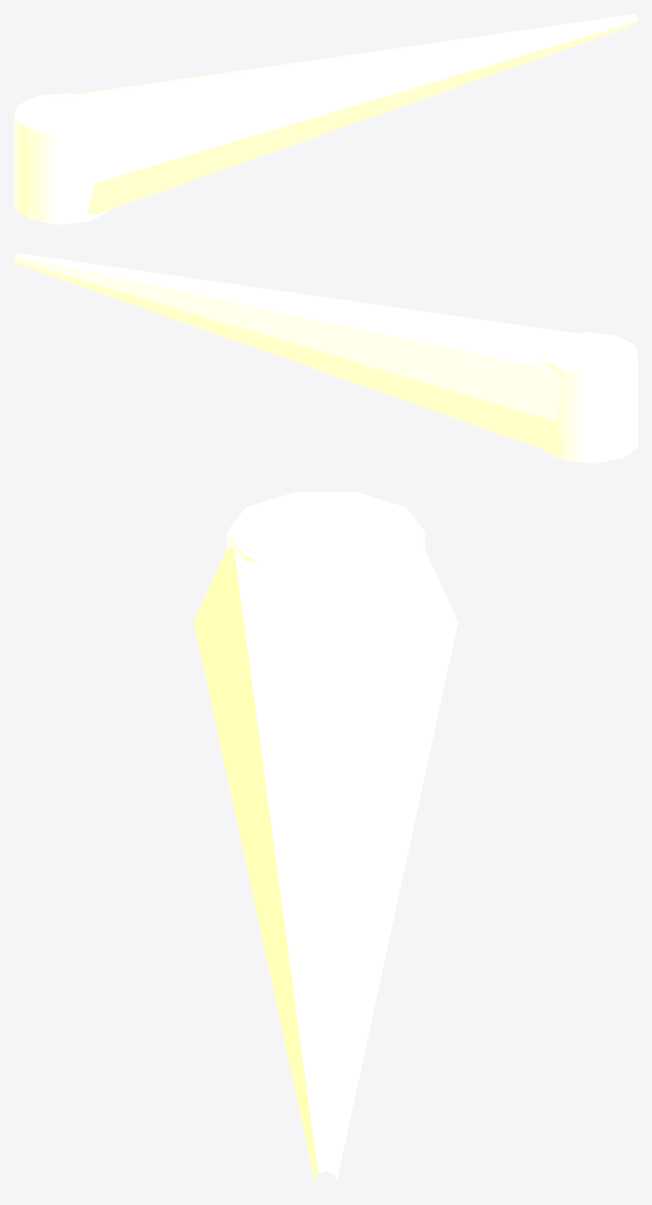
Rendered from farol-listrado.glb.
3 renders of one model, top to bottom at view 1: azimuth 30°, elevation 25°; view 2: azimuth 150°, elevation 25°; view 3: azimuth 270°, elevation 25°, orthographic. The views are drawn at different scales.
Parts seen in each view (by area): view 1: farol-listrado; view 2: farol-listrado; view 3: farol-listrado.
Part boxes in pixels (x1,y1,x2,y2): farol-listrado: (14,14,637,224); farol-listrado: (14,253,637,463); farol-listrado: (194,492,457,1180).
Size of the model in its own units: 6.43 by 1.2 by 1.2.
